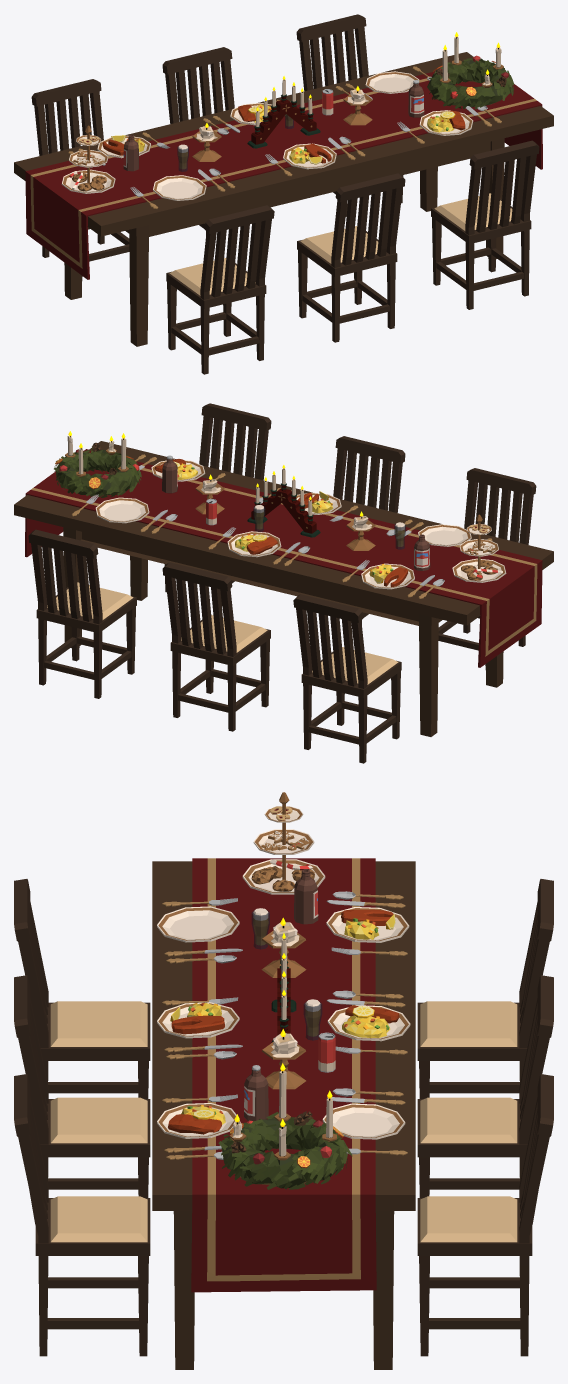
The model's file is table-christmas-dinner-czech.glb.
3 views of the same model, one above another, from view 1: azimuth 30°, elevation 25°; view 2: azimuth 150°, elevation 25°; view 3: azimuth 270°, elevation 25° (orthographic). The views are drawn at different scales.
Parts seen in each view (by area): view 1: table_dinner_christmas, chair_dinner_christmas, chair_dinner_christmas__2_, chair_dinner_christmas__1_, chair_dinner_christmas__3_, chair_dinner_christmas__5_, chair_dinner_christmas__4_, wreath_advent_b, candle_holder_arch, etagere_christmas_full, plate_dinner_czech_b, plate_dinner_christmas (+8 smaller); view 2: table_dinner_christmas, chair_dinner_christmas__3_, chair_dinner_christmas__5_, chair_dinner_christmas__4_, chair_dinner_christmas, chair_dinner_christmas__2_, chair_dinner_christmas__1_, wreath_advent_b, etagere_christmas_full, candle_holder_arch, plate_dinner_czech_a__1_, plate_dinner_czech_b__1_ (+8 smaller); view 3: table_dinner_christmas, chair_dinner_christmas__2_, chair_dinner_christmas__5_, chair_dinner_christmas__1_, chair_dinner_christmas__4_, chair_dinner_christmas, chair_dinner_christmas__3_, wreath_advent_b, etagere_christmas_full, plate_dinner_czech_b, plate_dinner_czech_a__1_, plate_dinner_christmas (+9 smaller).
Boxes of the visible parts, x1=… form: table_dinner_christmas: x1=14, y1=52, x2=553, y2=346; chair_dinner_christmas: x1=166, y1=205, x2=274, y2=374; chair_dinner_christmas__2_: x1=431, y1=140, x2=539, y2=309; chair_dinner_christmas__1_: x1=297, y1=173, x2=405, y2=342; chair_dinner_christmas__3_: x1=31, y1=79, x2=129, y2=280; chair_dinner_christmas__5_: x1=296, y1=14, x2=403, y2=216; chair_dinner_christmas__4_: x1=162, y1=47, x2=234, y2=235; wreath_advent_b: x1=427, y1=32, x2=513, y2=109; candle_holder_arch: x1=247, y1=76, x2=320, y2=148; etagere_christmas_full: x1=61, y1=125, x2=115, y2=193; plate_dinner_czech_b: x1=283, y1=143, x2=336, y2=169; plate_dinner_christmas: x1=153, y1=175, x2=206, y2=200; table_dinner_christmas: x1=14, y1=441, x2=553, y2=736; chair_dinner_christmas__3_: x1=293, y1=594, x2=401, y2=763; chair_dinner_christmas__5_: x1=28, y1=529, x2=136, y2=698; chair_dinner_christmas__4_: x1=162, y1=562, x2=270, y2=731; chair_dinner_christmas: x1=438, y1=468, x2=536, y2=669; chair_dinner_christmas__2_: x1=164, y1=403, x2=271, y2=605; chair_dinner_christmas__1_: x1=306, y1=436, x2=405, y2=624; wreath_advent_b: x1=54, y1=431, x2=141, y2=497; etagere_christmas_full: x1=452, y1=514, x2=506, y2=582; candle_holder_arch: x1=247, y1=465, x2=320, y2=537; plate_dinner_czech_a__1_: x1=227, y1=531, x2=281, y2=557; plate_dinner_czech_b__1_: x1=361, y1=563, x2=414, y2=589; table_dinner_christmas: x1=152, y1=858, x2=415, y2=1369; chair_dinner_christmas__2_: x1=14, y1=1074, x2=150, y2=1356; chair_dinner_christmas__5_: x1=417, y1=1074, x2=553, y2=1356; chair_dinner_christmas__1_: x1=14, y1=975, x2=150, y2=1197; chair_dinner_christmas__4_: x1=417, y1=975, x2=553, y2=1197; chair_dinner_christmas: x1=14, y1=879, x2=150, y2=1098; chair_dinner_christmas__3_: x1=417, y1=879, x2=553, y2=1098; wreath_advent_b: x1=218, y1=1063, x2=352, y2=1189; etagere_christmas_full: x1=242, y1=792, x2=325, y2=894; plate_dinner_czech_b: x1=157, y1=1002, x2=239, y2=1038; plate_dinner_czech_a__1_: x1=327, y1=1005, x2=410, y2=1041; plate_dinner_christmas: x1=157, y1=906, x2=239, y2=942.
Size of the model in its own units: 3.03 by 1.28 by 2.05.
Materials: 3 (3 with a texture image).
